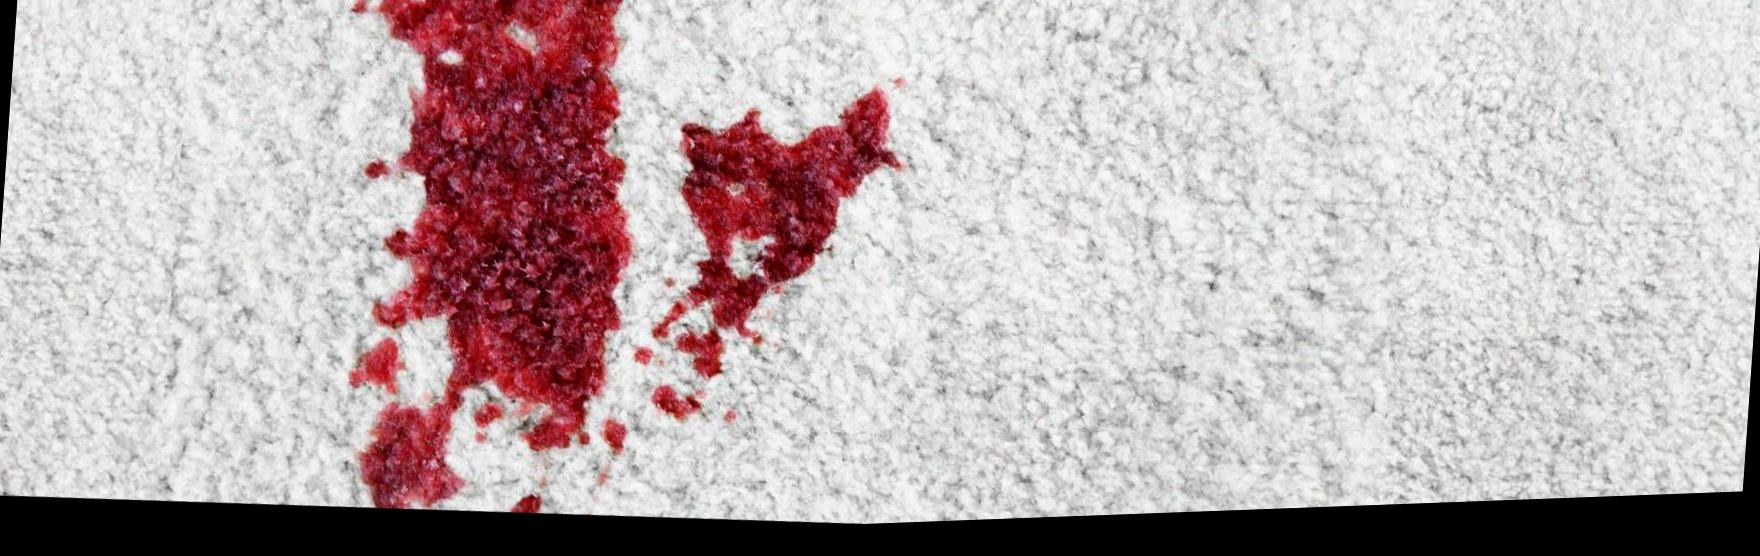Fire: (358, 0, 633, 512), (652, 94, 905, 385), (347, 340, 406, 398), (651, 390, 703, 427), (601, 422, 629, 462), (474, 405, 504, 434), (364, 161, 391, 183)
